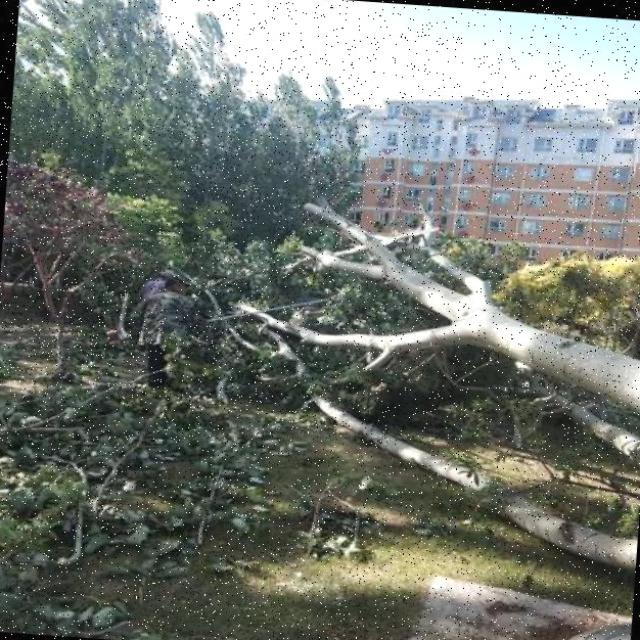fallen_object: (239, 322, 640, 562), (228, 188, 640, 409)
